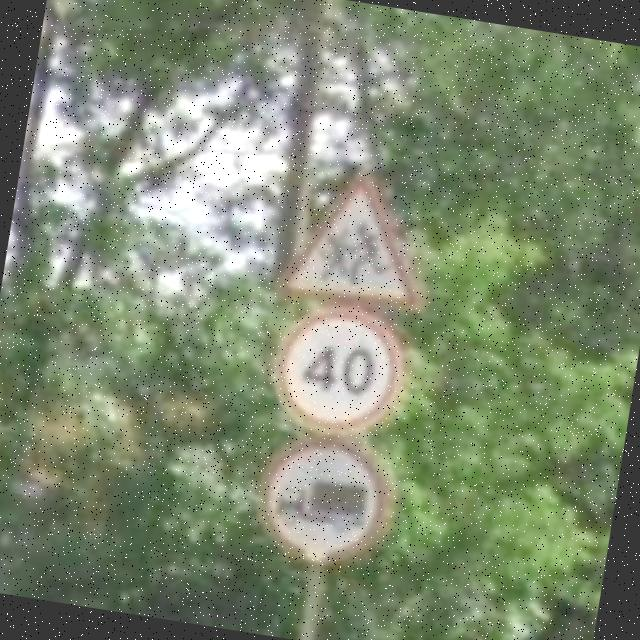Dzieci: (276, 157, 444, 317)
Ograniczenie predkosci do 40: (266, 300, 412, 444)
